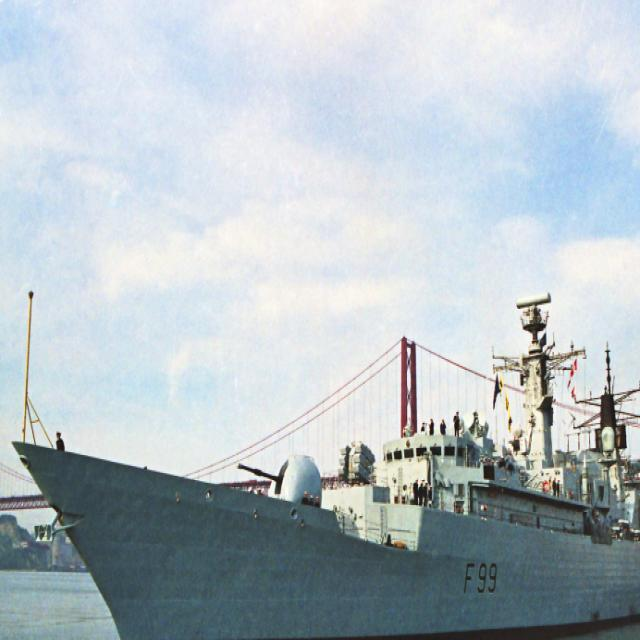Fragata: (11, 287, 640, 640)
